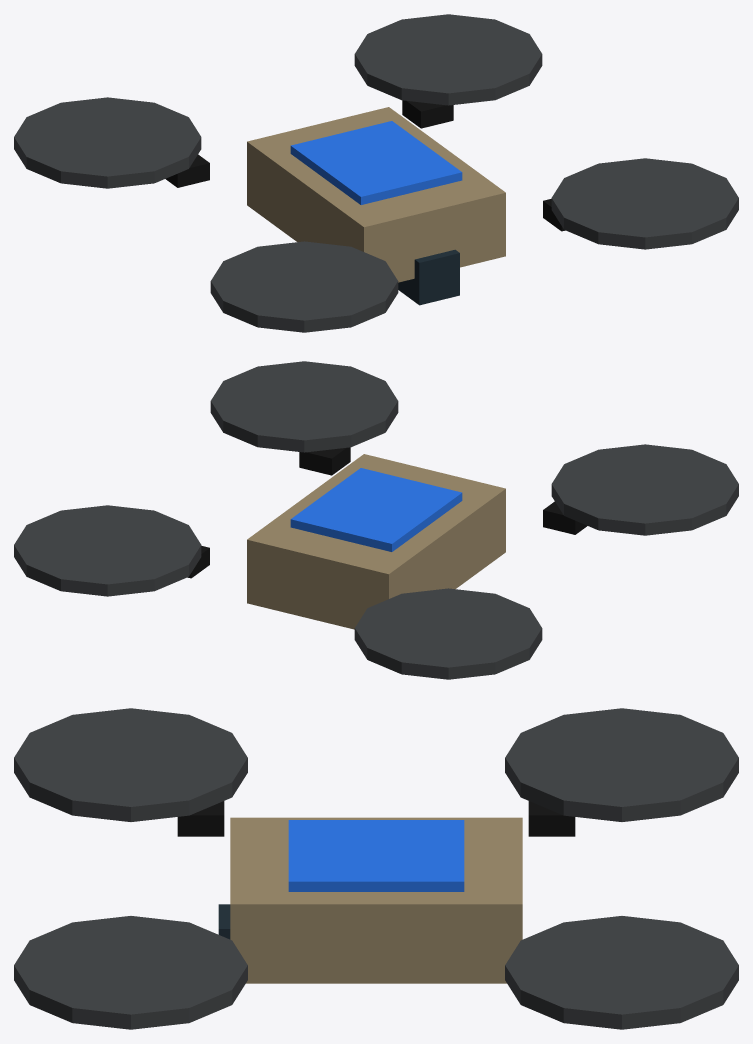
The model's file is ae_swarm_drone.glb.
3 renders of one model, top to bottom at view 1: azimuth 30°, elevation 25°; view 2: azimuth 150°, elevation 25°; view 3: azimuth 270°, elevation 25°, orthographic. The views are drawn at different scales.
Parts seen in each view (by area): view 1: body, rotor_0, rotor_3, rotor_1, rotor_2, team_plate, camera_pod, arm_3, arm_2; view 2: body, rotor_1, rotor_2, rotor_0, rotor_3, team_plate, arm_1, arm_0; view 3: body, rotor_0, rotor_1, rotor_2, rotor_3, team_plate, arm_0, arm_2.
Part boxes in pixels (x1,y1,x2,y2): body: (247, 107, 505, 282); rotor_0: (210, 241, 398, 332); rotor_3: (354, 14, 542, 105); rotor_1: (551, 158, 738, 249); rotor_2: (14, 97, 201, 188); team_plate: (290, 121, 462, 204); camera_pod: (398, 249, 459, 305); arm_3: (402, 100, 453, 128); arm_2: (165, 154, 209, 187); body: (247, 454, 505, 629); rotor_1: (210, 361, 398, 452); rotor_2: (354, 588, 542, 679); rotor_0: (551, 444, 738, 535); rotor_3: (14, 505, 201, 596); team_plate: (290, 468, 462, 551); arm_1: (299, 447, 350, 475); arm_0: (543, 501, 587, 534); body: (230, 817, 522, 983); rotor_0: (14, 708, 247, 821); rotor_1: (14, 916, 247, 1029); rotor_2: (505, 708, 738, 821); rotor_3: (505, 916, 738, 1029); team_plate: (288, 820, 464, 891); arm_0: (177, 801, 224, 836); arm_2: (528, 801, 575, 836).
Bounding box in the file's own units: 0.868 × 0.157 × 0.868.
